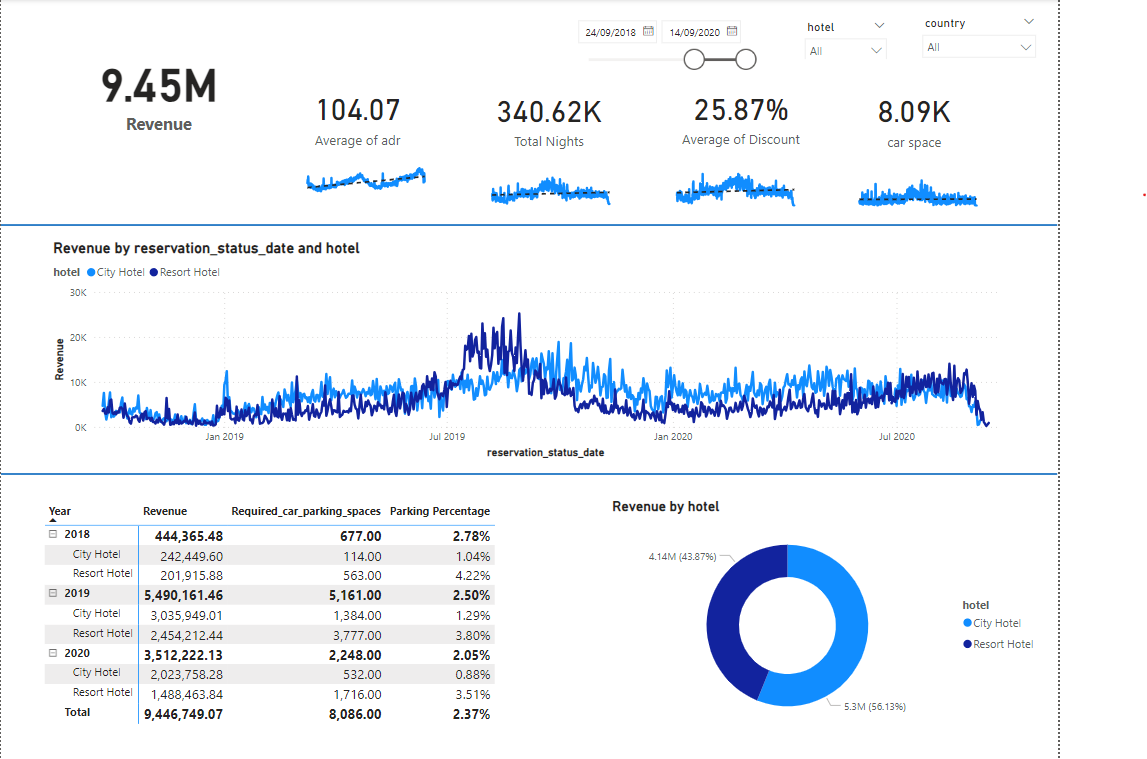

What the dashboard file says about the page in this screenshot:
{"tool":"powerbi","page":{"name":"HotelRevenue","canvas":[1280,920],"ordinal":0},"visuals":[{"type":"shape","box":[0,255.4,1279.4,35.9],"z":0},{"type":"shape","box":[0,562.1,1279.4,25.7],"z":1000},{"type":"card","fields":{"Values":["Sum(Query1.Revenue)"]},"box":[47.5,26.9,286.2,166.8],"z":2000},{"type":"card","fields":{"Values":["Avg(Query1.adr)"]},"box":[333.6,79.6,195.1,123.2],"z":3000},{"type":"card","fields":{"Values":["Query1.Total Nights"]},"box":[556.9,82.1,214.3,121.9],"z":4000},{"type":"card","fields":{"Values":["Avg(Query1.Discount)"]},"box":[816.1,87.3,159.1,107.8],"z":5000},{"type":"lineChart","title":"Revenue by reservation_status_date and hotel","fields":{"Y":["Sum(Query1.Revenue)"],"Category":["Query1.reservation_status_date"],"Series":["Query1.hotel"]},"box":[57.7,291.3,1165.2,270.8],"z":6000},{"type":"slicer","fields":{"Values":["Query1.country"]},"box":[1106.1,15.4,157.8,62.9],"z":7000},{"type":"slicer","fields":{"Values":["Query1.hotel"]},"box":[963.7,20.5,119.3,52.6],"z":8000},{"type":"lineChart","title":"Revenue by reservation_status_date and hotel","fields":{"Y":["Avg(Query1.adr)"],"Category":["Query1.reservation_status_date"]},"box":[356.7,187.4,172,61.6],"z":9000},{"type":"lineChart","title":"Revenue by reservation_status_date and hotel","fields":{"Y":["Query1.Total Nights"],"Category":["Query1.reservation_status_date"]},"box":[580,193.8,172,61.6],"z":10000},{"type":"lineChart","title":"Revenue by reservation_status_date and hotel","fields":{"Y":["Sum(Query1.Discount)"],"Category":["Query1.reservation_status_date"]},"box":[803.3,195.1,172,61.6],"z":11000},{"type":"card","fields":{"Values":["Sum(Query1.required_car_parking_spaces)"]},"box":[1002.2,89.8,206.6,107.8],"z":12000},{"type":"lineChart","title":"Revenue by reservation_status_date and hotel","fields":{"Y":["Sum(Query1.required_car_parking_spaces)"],"Category":["Query1.reservation_status_date"]},"box":[1024,195.1,172,61.6],"z":13000},{"type":"donutChart","title":"Revenue by hotel","fields":{"Category":["Query1.hotel"],"Y":["Sum(Query1.Revenue)"]},"box":[735.4,604.6,529,289.2],"z":14000},{"type":"pivotTable","fields":{"Rows":["Query1.reservation_status_date.Variation.Date Hierarchy.Year","Query1.hotel"],"Values":["Sum(Query1.Revenue)","Sum(Query1.required_car_parking_spaces)","Query1.Parking Percentage"]},"box":[48,604.6,593,279],"z":15000},{"type":"slicer","fields":{"Values":["Query1.reservation_status_date"]},"box":[686,16,236.9,90.1],"z":15001}]}

Visuals, with their boxes on the page's 1280x920 design canvas (x1, y1, x2, y2). These are canvas units, not pixel positions in the 1147x759 screenshot, which may show the page scaled, cropped or inside an application window:
shape: x1=0 y1=255 x2=1279 y2=291
shape: x1=0 y1=562 x2=1279 y2=588
card - Sum(Query1.Revenue): x1=48 y1=27 x2=334 y2=194
card - Avg(Query1.adr): x1=334 y1=80 x2=529 y2=203
card - Query1.Total Nights: x1=557 y1=82 x2=771 y2=204
card - Avg(Query1.Discount): x1=816 y1=87 x2=975 y2=195
"Revenue by reservation_status_date and hotel" lineChart: x1=58 y1=291 x2=1223 y2=562
slicer - Query1.country: x1=1106 y1=15 x2=1264 y2=78
slicer - Query1.hotel: x1=964 y1=20 x2=1083 y2=73
"Revenue by reservation_status_date and hotel" lineChart: x1=357 y1=187 x2=529 y2=249
"Revenue by reservation_status_date and hotel" lineChart: x1=580 y1=194 x2=752 y2=255
"Revenue by reservation_status_date and hotel" lineChart: x1=803 y1=195 x2=975 y2=257
card - Sum(Query1.required_car_parking_spaces): x1=1002 y1=90 x2=1209 y2=198
"Revenue by reservation_status_date and hotel" lineChart: x1=1024 y1=195 x2=1196 y2=257
"Revenue by hotel" donutChart: x1=735 y1=605 x2=1264 y2=894
pivotTable - Query1.reservation_status_date.Variation.Date Hierarchy.Year x Query1.hotel: x1=48 y1=605 x2=641 y2=884
slicer - Query1.reservation_status_date: x1=686 y1=16 x2=923 y2=106
